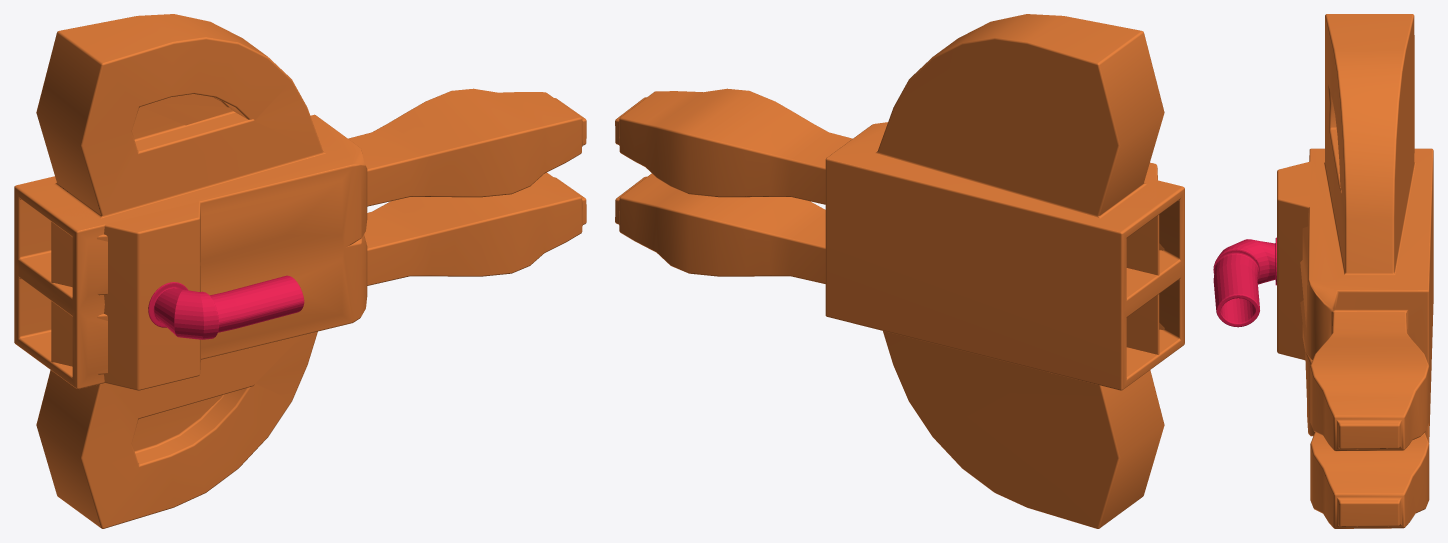
File: gubbins2.glb
3 renders of one model, left to right at view 1: azimuth 30°, elevation 25°; view 2: azimuth 150°, elevation 25°; view 3: azimuth 270°, elevation 25°, orthographic. The views are drawn at different scales.
Visible parts, largest first — view 1: ship, cannon; view 2: ship; view 3: ship, cannon.
Boxes of the visible parts, x1,y1,x2,y2 form: ship: [14, 14, 586, 528]; cannon: [148, 275, 304, 339]; ship: [615, 14, 1184, 528]; ship: [1277, 14, 1433, 528]; cannon: [1213, 237, 1276, 327].
Bounding box in the file's own units: 6.93 × 5.87 × 2.57.
